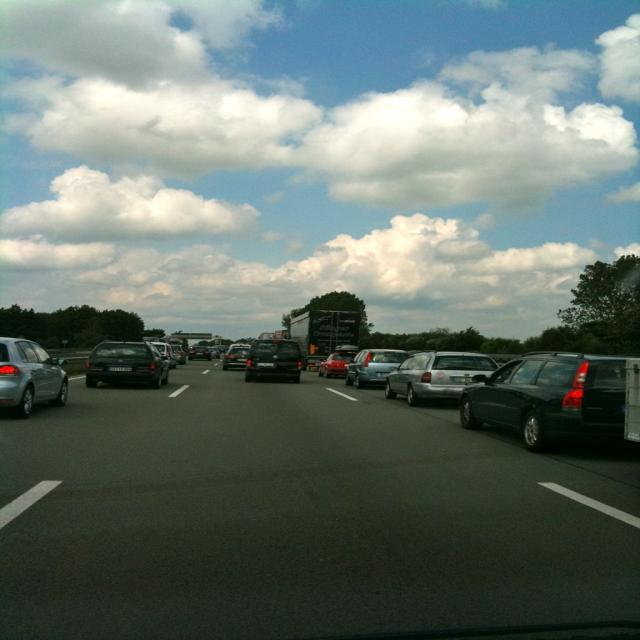car: (88, 342, 158, 383), (243, 337, 302, 380)
